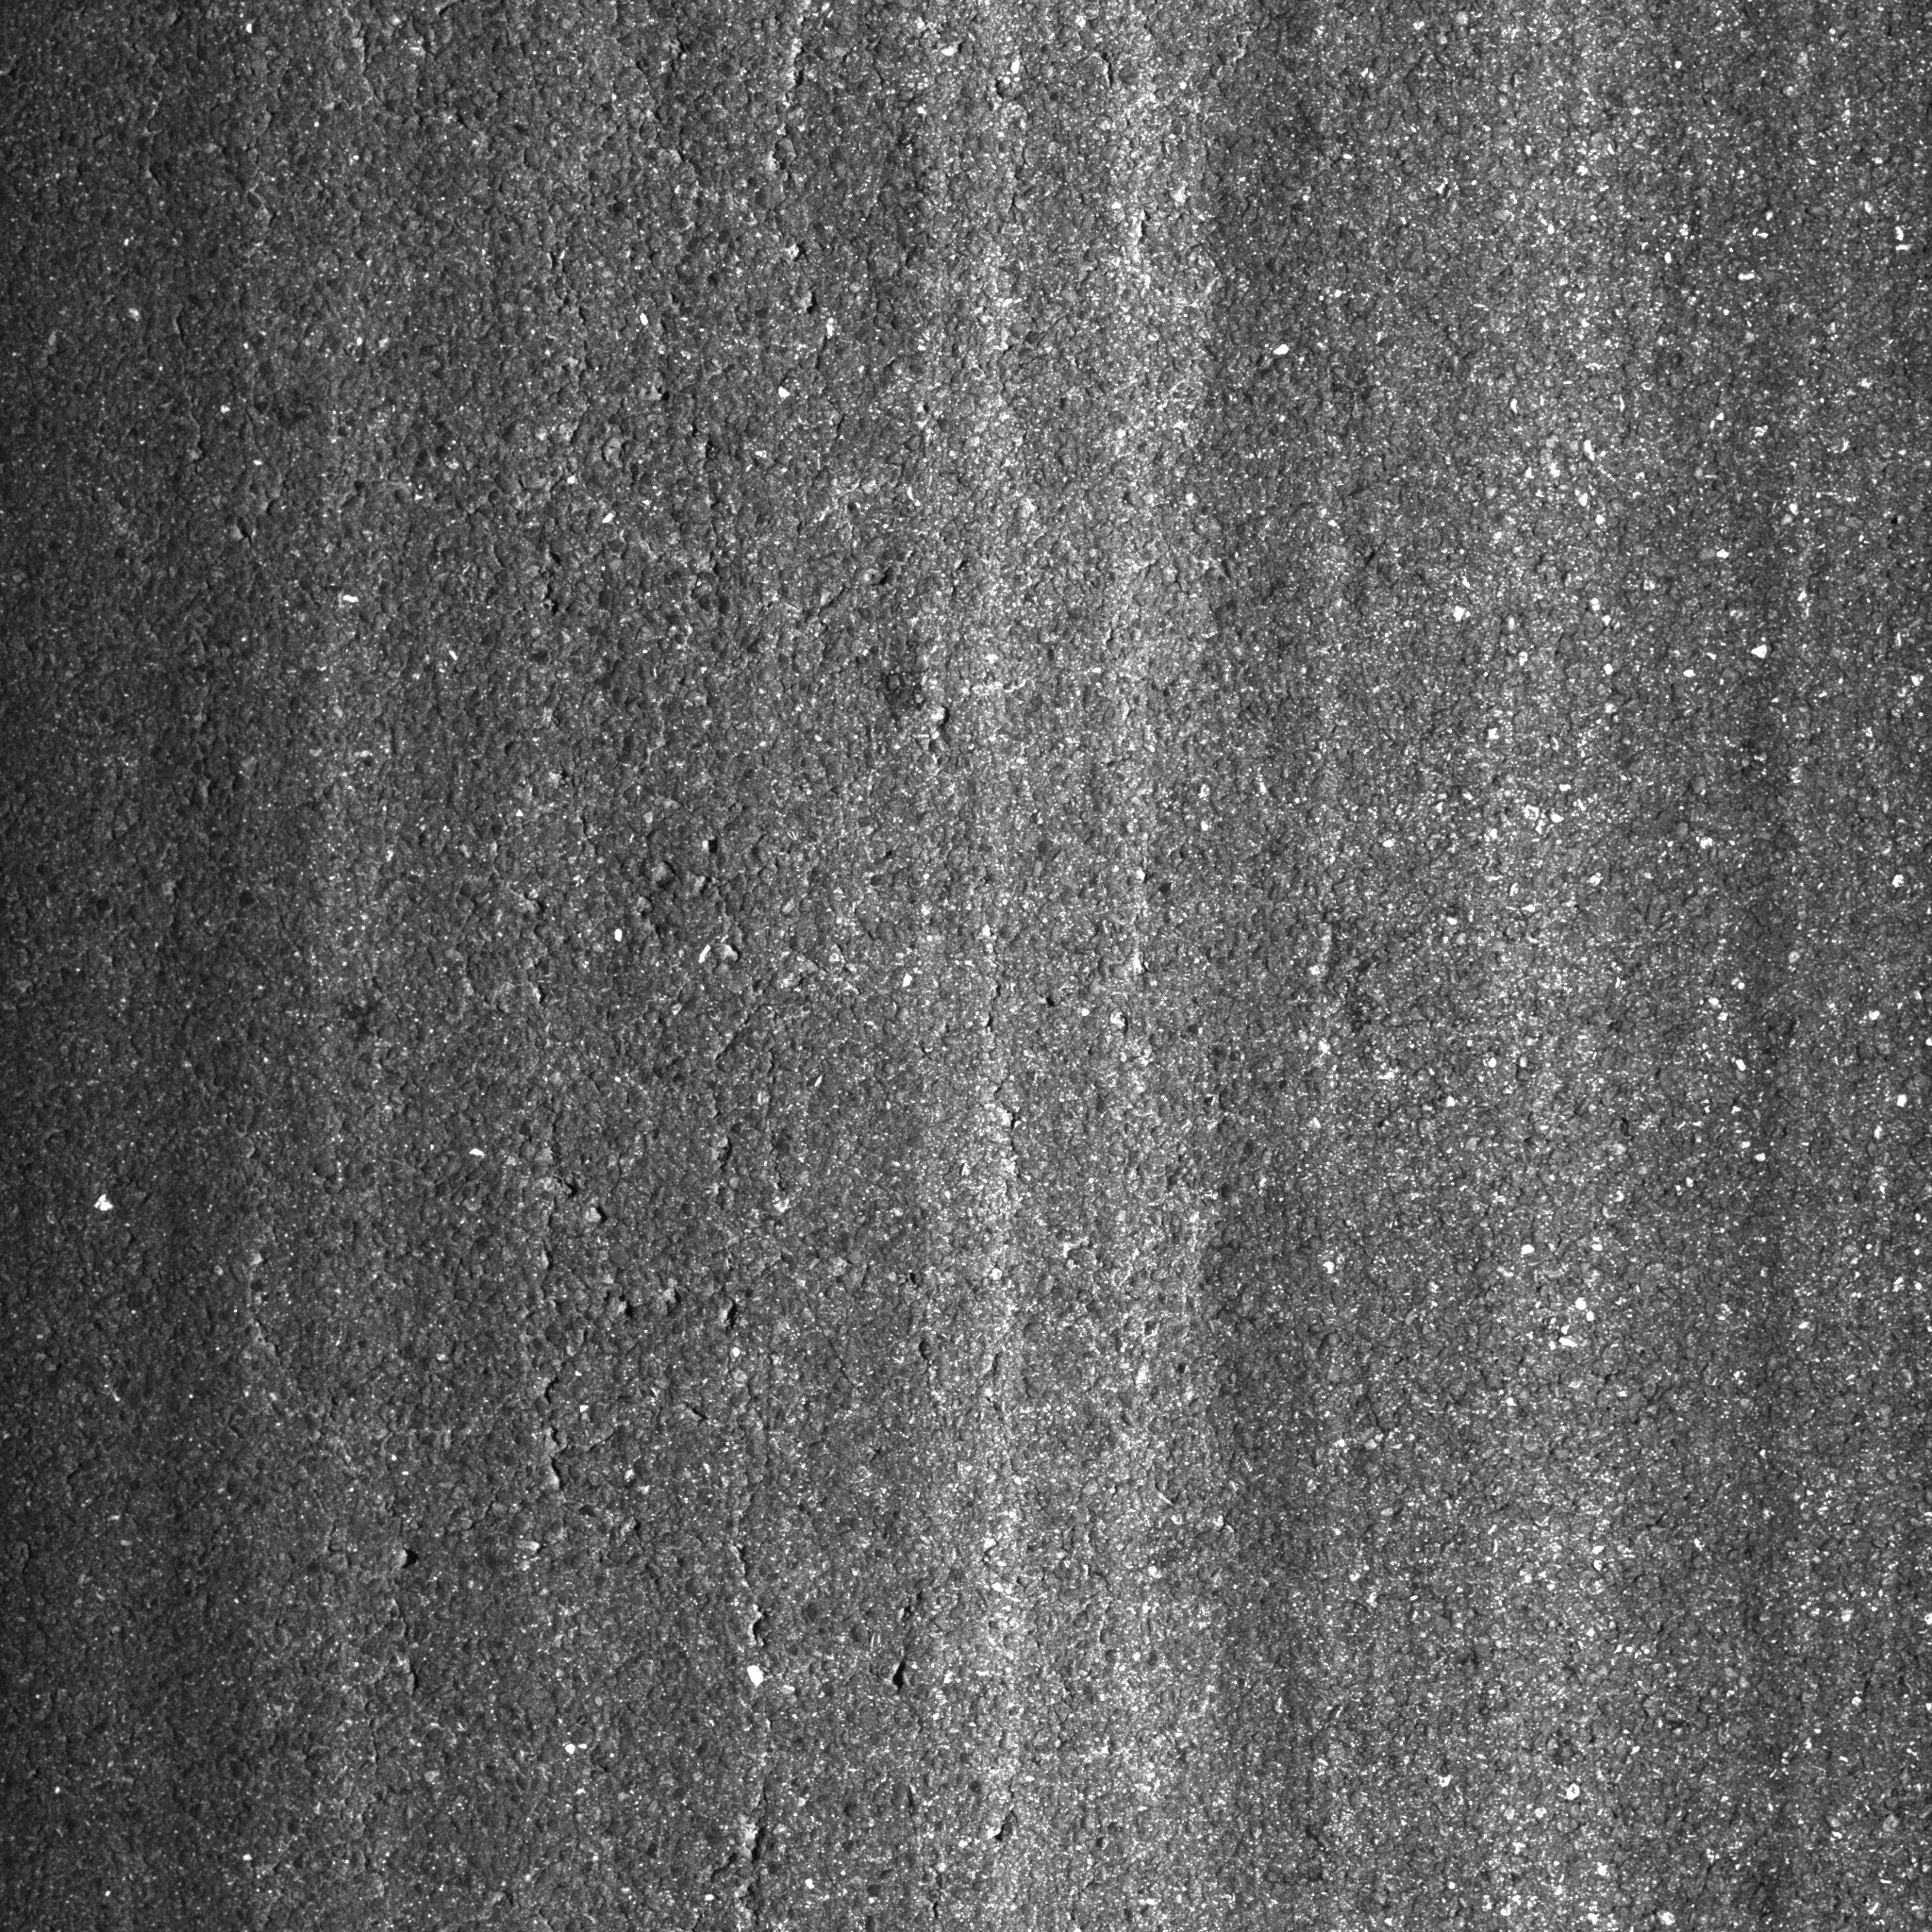alligator: (205, 28, 1049, 1927)
